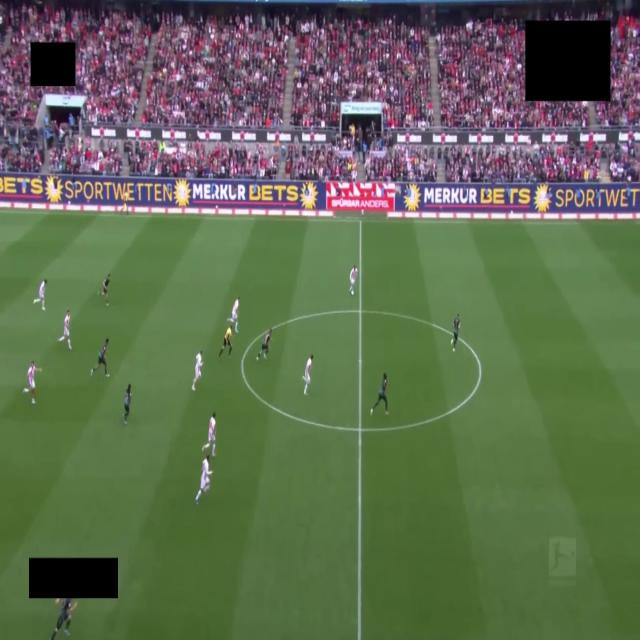ball: (351, 290, 354, 295)
player: (51, 599, 77, 639), (195, 455, 212, 504), (24, 361, 42, 404), (370, 373, 388, 415), (91, 339, 109, 377), (203, 412, 215, 456), (58, 310, 71, 349), (257, 329, 272, 359), (33, 280, 47, 311), (228, 296, 239, 333), (303, 355, 313, 395), (192, 351, 202, 391), (451, 314, 460, 351), (123, 384, 131, 425), (100, 274, 110, 305), (349, 265, 357, 295)
referee: (218, 326, 232, 356)
